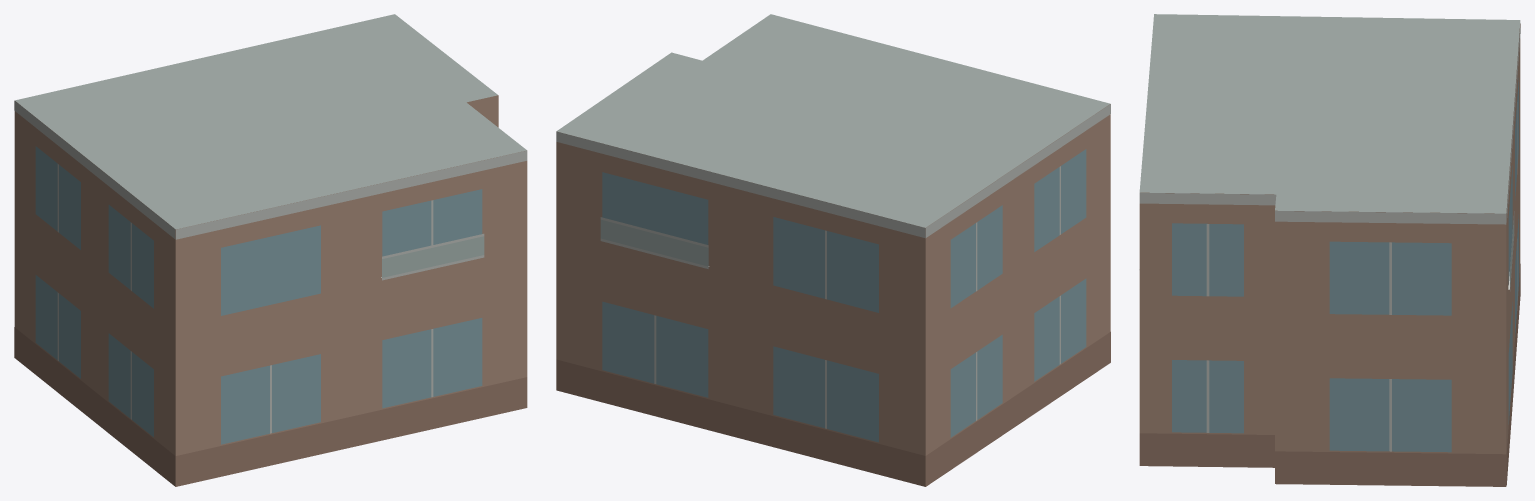
The model's file is survey-upis-33041419.glb.
3 views of the same model, side by side, from view 1: azimuth 30°, elevation 25°; view 2: azimuth 150°, elevation 25°; view 3: azimuth 270°, elevation 25° (orthographic). The views are drawn at different scales.
Parts seen in each view (by area): view 1: survey-upis-33041419.tmp; view 2: survey-upis-33041419.tmp; view 3: survey-upis-33041419.tmp.
Part boxes in pixels (<box>): survey-upis-33041419.tmp: <box>14,14,527,486</box>; survey-upis-33041419.tmp: <box>556,14,1110,486</box>; survey-upis-33041419.tmp: <box>1139,14,1520,486</box>.
Size of the model in its own units: 9.56 by 6.1 by 7.72.
